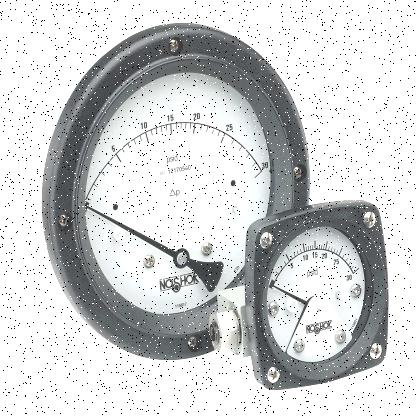needle: (87, 205, 176, 258)
